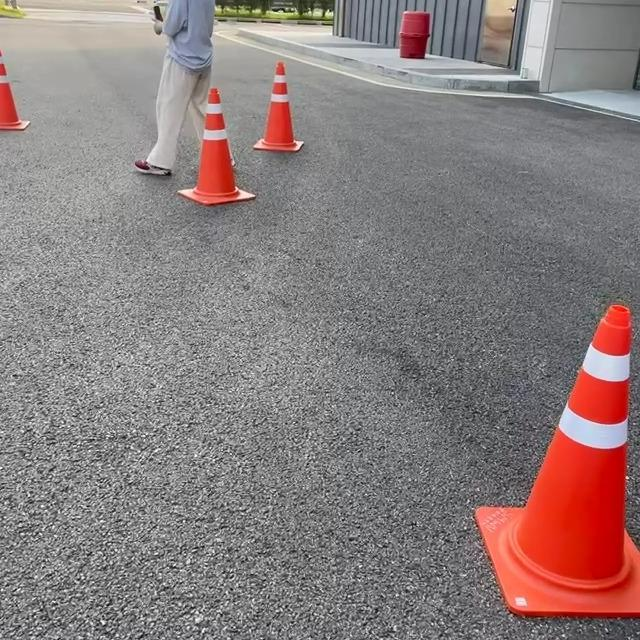fallen_object: (401, 184, 640, 604), (122, 57, 243, 228), (249, 42, 312, 177), (0, 50, 22, 129)
